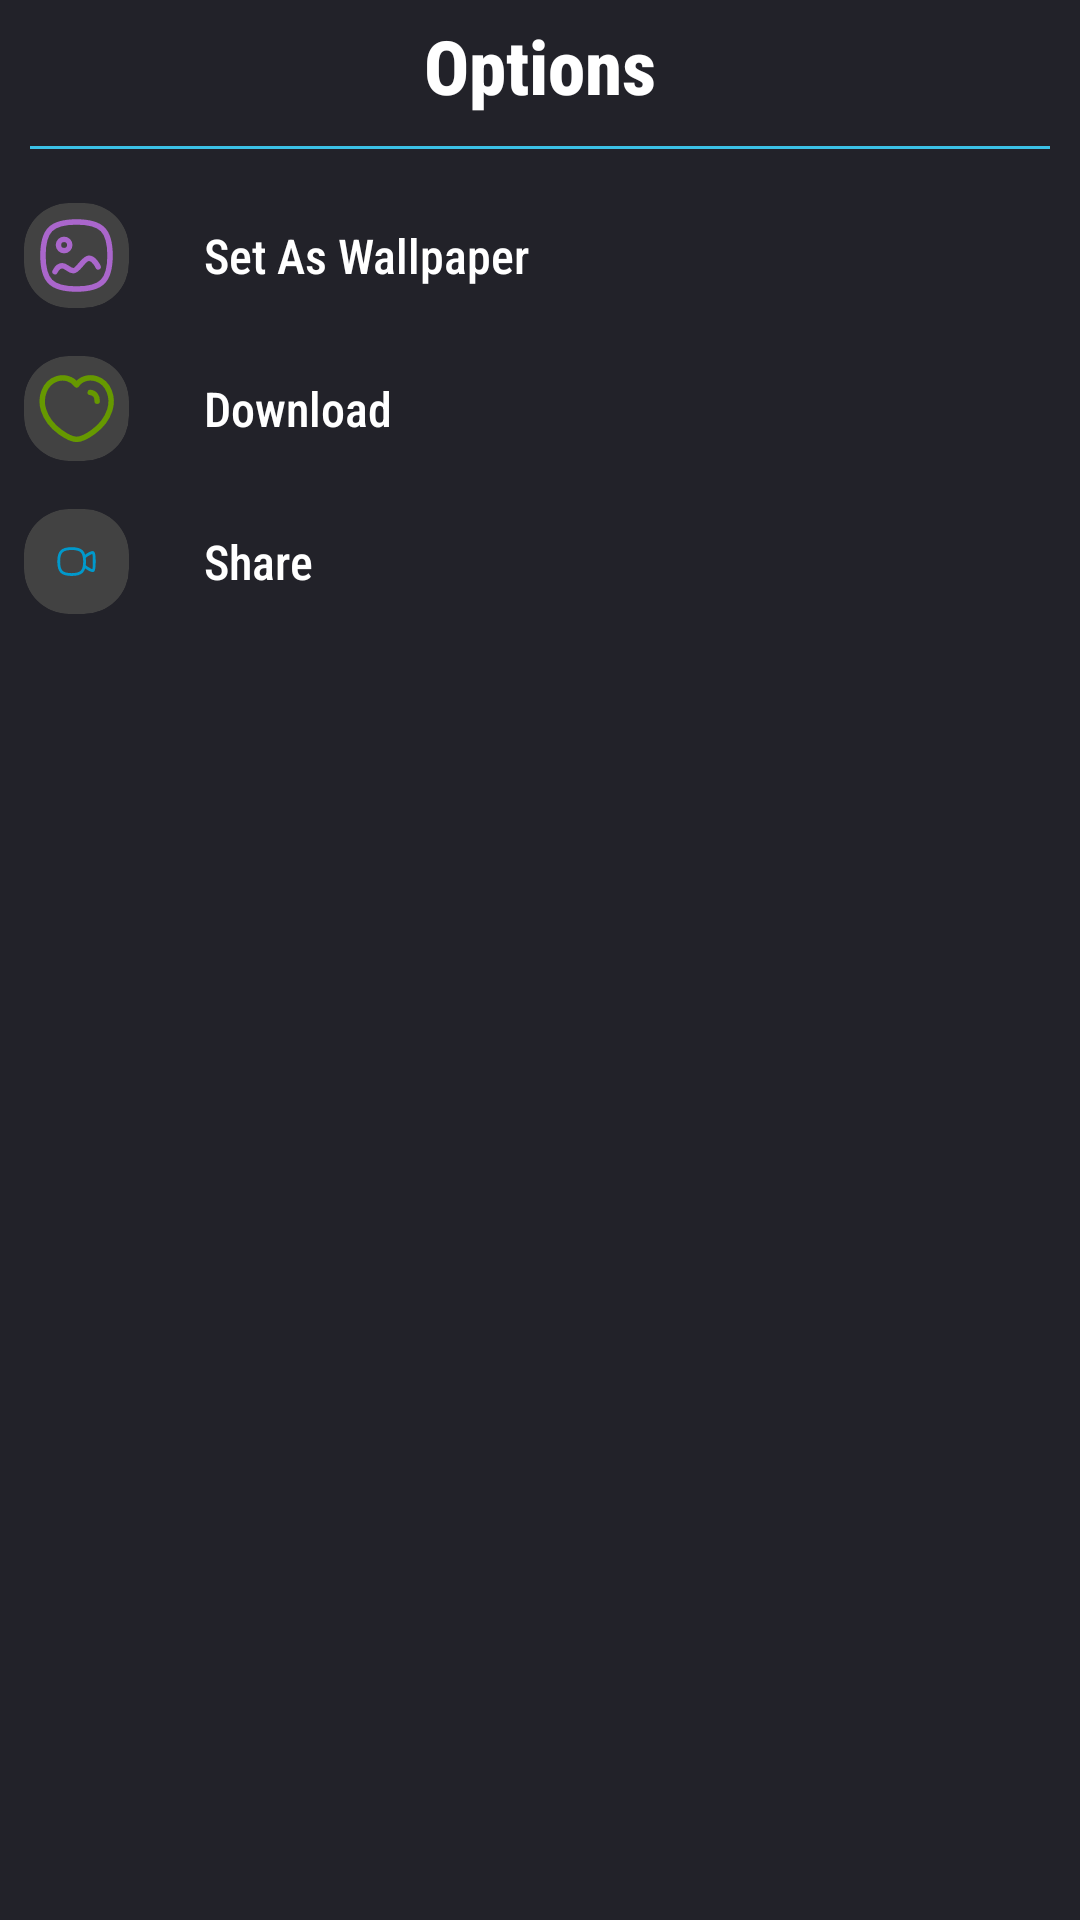

Screen size 1080w x 1920h. Icon name, then its center in pixels as point (x, y):
images: point (76, 255)
videos: point (76, 561)
